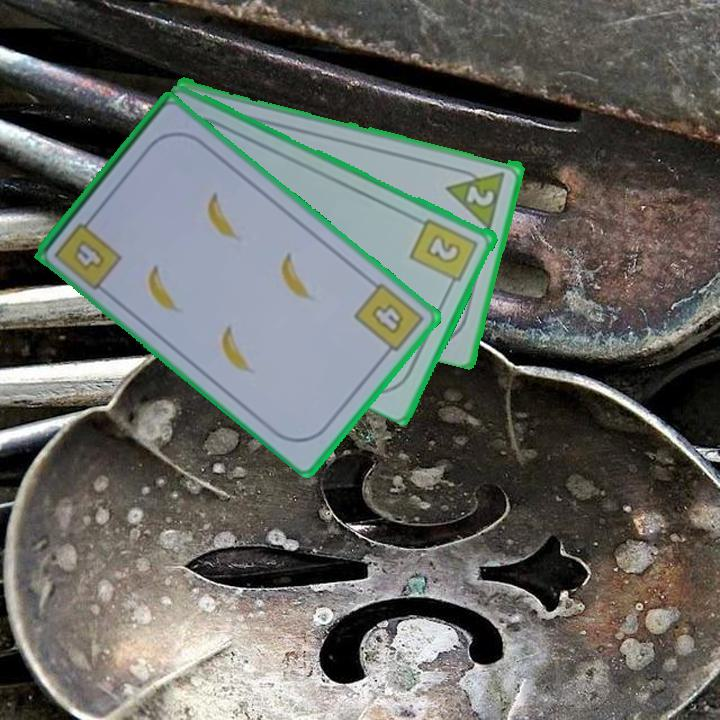2b: (407, 214, 482, 292)
2p: (463, 181, 498, 209)
4b: (350, 279, 427, 361), (50, 210, 125, 293)
